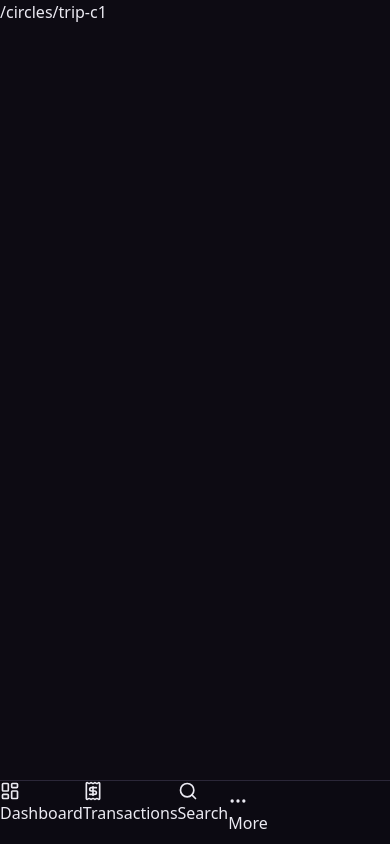
CircleMobileBottomNav › renders an icon beside each More item
Click the button "More": (248, 812) 228,781 -> 268,843
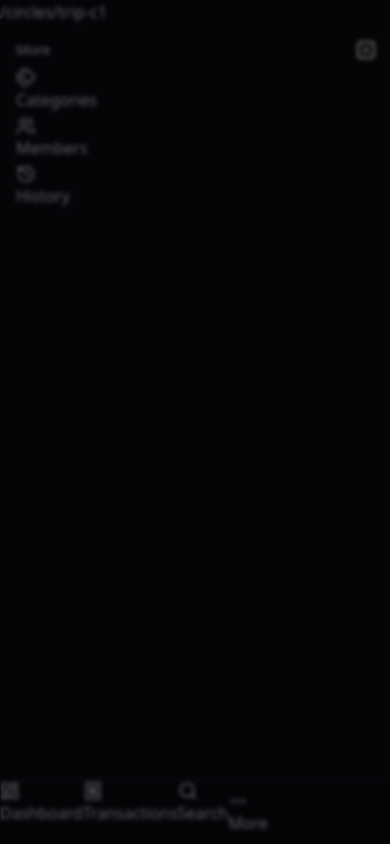
expect the icon is shown: met, box 16,68 -> 36,88
